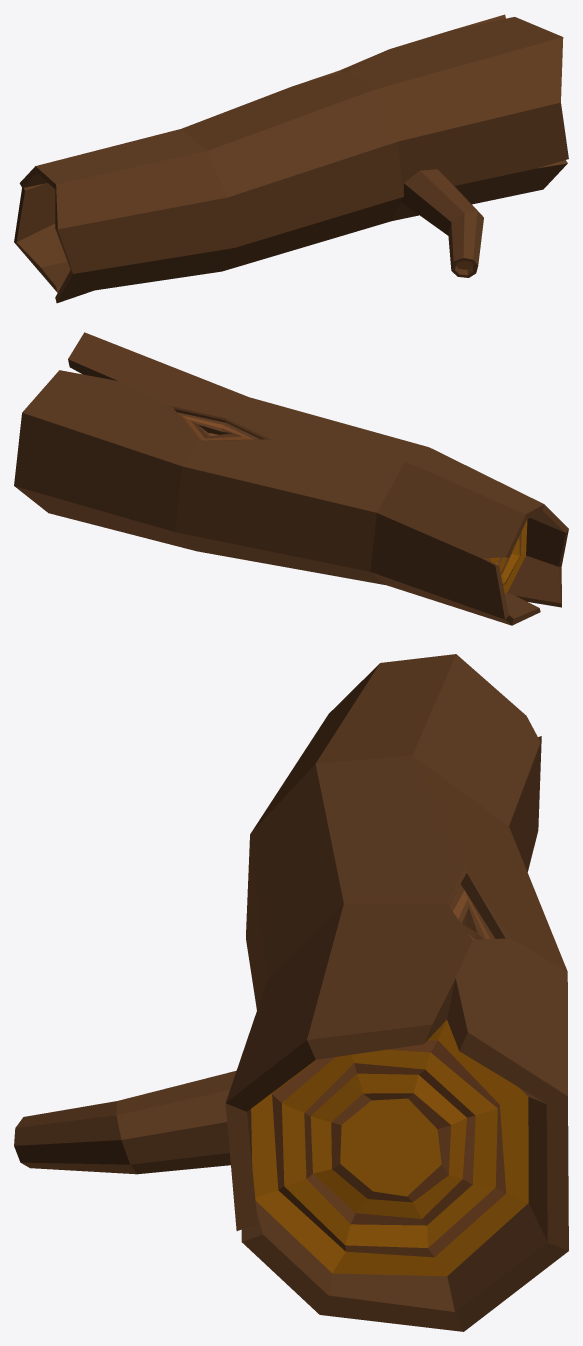
Rendered from log.glb.
The picture shows the model from 3 angles, top to bottom: view 1: azimuth 30°, elevation 25°; view 2: azimuth 150°, elevation 25°; view 3: azimuth 270°, elevation 25°; orthographic projection. The views are drawn at different scales.
Parts seen in each view (by area): view 1: Log; view 2: Log; view 3: Log.
Boxes of the visible parts, box(x1,y1,x2,y2) form: Log: box(14, 14, 568, 303); Log: box(14, 332, 568, 625); Log: box(14, 654, 568, 1331).
Bounding box in the file's own units: 4.77 × 1.39 × 2.37.
